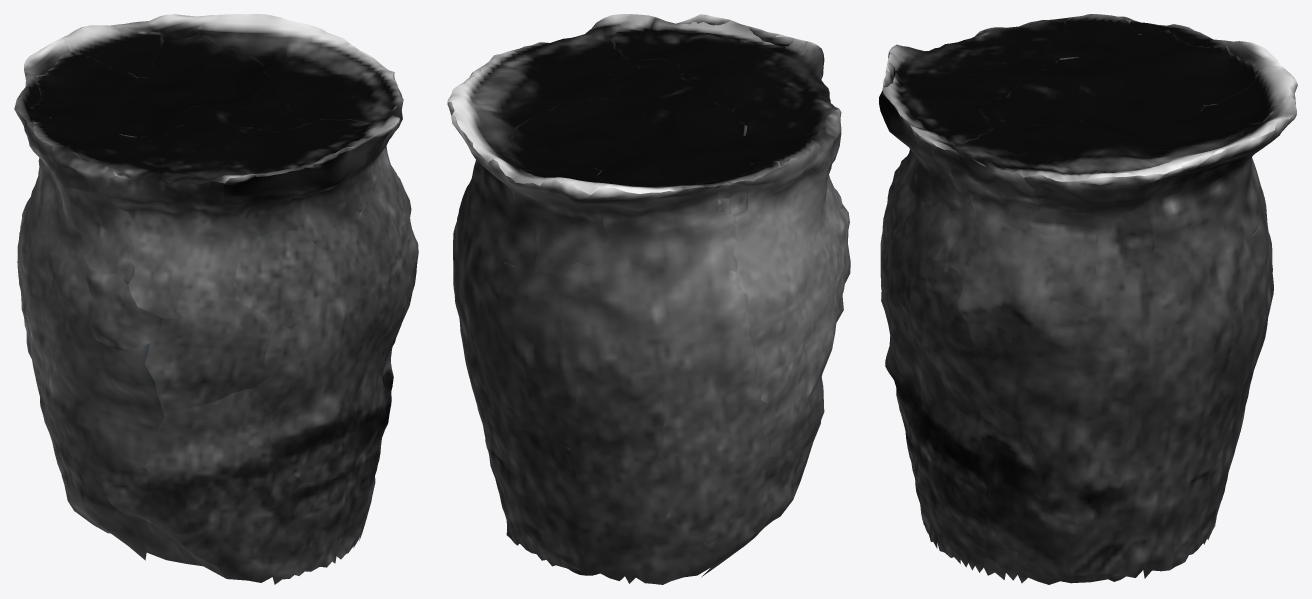
File: BlueJarRepairedFinal.fbx
The picture shows the model from 3 angles, left to right: view 1: azimuth 30°, elevation 25°; view 2: azimuth 150°, elevation 25°; view 3: azimuth 270°, elevation 25°; orthographic projection.
Parts seen in each view (by area): view 1: BlueJarRepairedFinal; view 2: BlueJarRepairedFinal; view 3: BlueJarRepairedFinal.
Boxes of the visible parts, x1,y1,x2,y2 form: BlueJarRepairedFinal: [14, 14, 418, 584]; BlueJarRepairedFinal: [447, 14, 850, 584]; BlueJarRepairedFinal: [879, 14, 1297, 584].
Bounding box in the file's own units: 1.29 × 1.58 × 1.33.
1 material, 1 textured.
